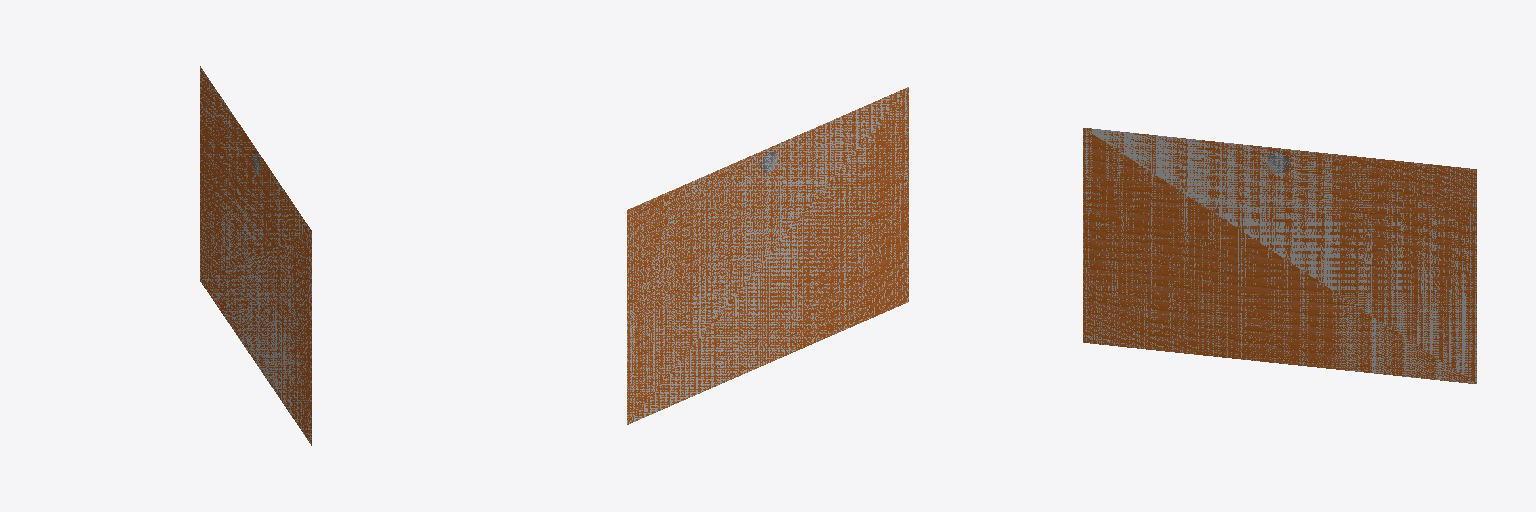
3 renders of one model, left to right at view 1: azimuth 30°, elevation 25°; view 2: azimuth 150°, elevation 25°; view 3: azimuth 270°, elevation 25°, orthographic.
Visible parts, largest first — view 1: Plane.003_Plane.002, Plane.002_Plane.001; view 2: Plane.003_Plane.002, Plane.002_Plane.001; view 3: Plane.003_Plane.002, Plane.002_Plane.001.
Part boxes in pixels (x1,y1,x2,y2): Plane.003_Plane.002: (200,66,311,445); Plane.002_Plane.001: (200,67,311,443); Plane.003_Plane.002: (627,88,908,424); Plane.002_Plane.001: (627,87,908,423); Plane.003_Plane.002: (1083,128,1476,383); Plane.002_Plane.001: (1083,128,1476,383).
Bounding box in the file's own units: 0.38 × 0.9146 × 1.52.
2 materials, 1 textured.